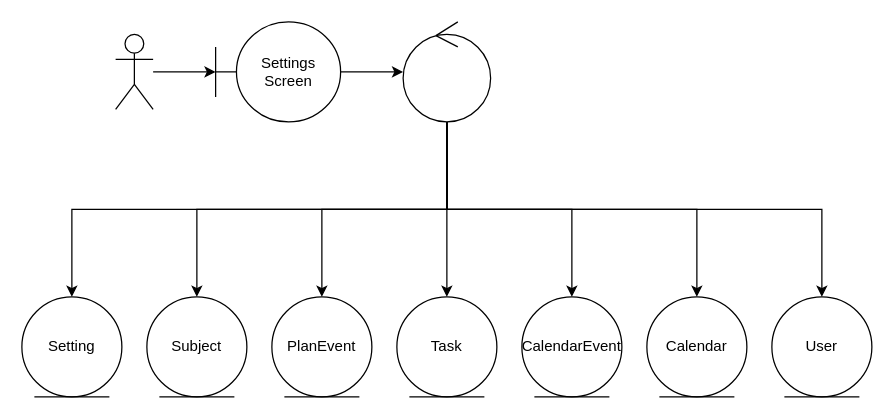
The diagram is 894 pixels wide and 419 high, and some of its shapes have lost their labels. The shapes that lost their labels are listed below. From the top down, each one's box as (x1, y1, x2, y2) in pixels, then its label:
(114, 33, 153, 109): Registered User
(402, 21, 491, 122): Delete Account
